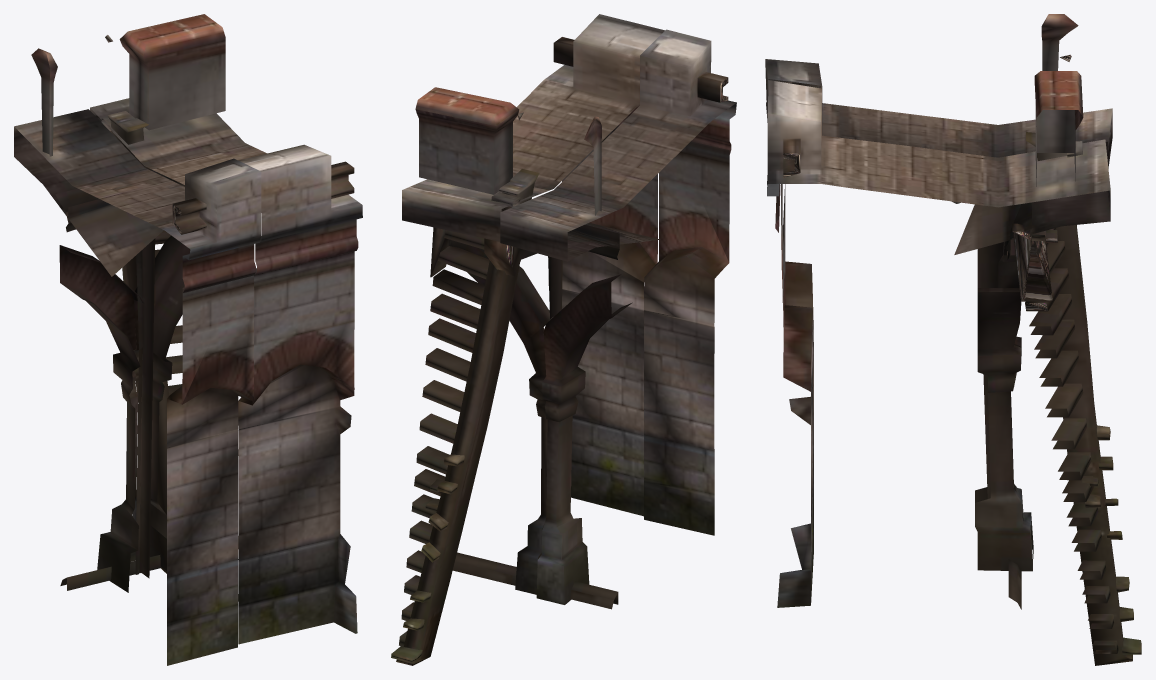
Rendered from WallRunLeft_25.fbx.
The picture shows the model from 3 angles, left to right: view 1: azimuth 30°, elevation 25°; view 2: azimuth 150°, elevation 25°; view 3: azimuth 270°, elevation 25°; orthographic projection. The views are drawn at different scales.
Parts seen in each view (by area): view 1: Imported wall section.053; view 2: Imported wall section.053; view 3: Imported wall section.053.
Part boxes in pixels (bbox=[...]): Imported wall section.053: bbox=[14, 14, 362, 665]; Imported wall section.053: bbox=[391, 14, 736, 665]; Imported wall section.053: bbox=[765, 14, 1141, 665].
Size of the model in its own units: 200 by 642 by 383.
1 material, 1 textured.
